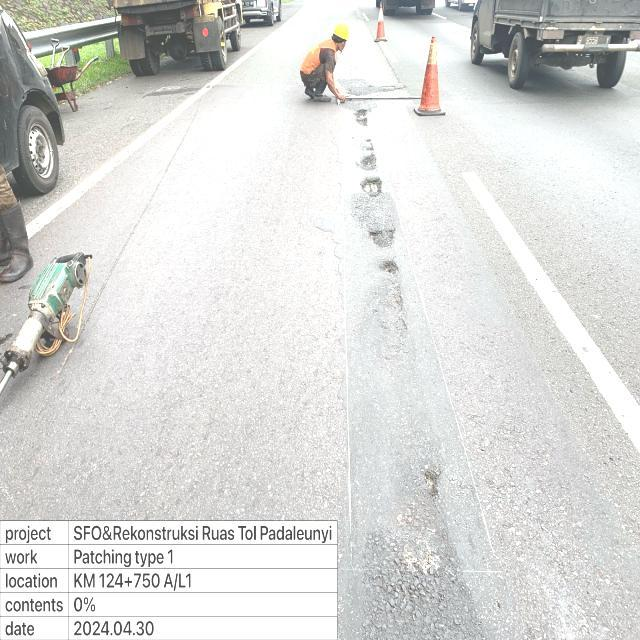Buraco: (139, 84, 203, 101), (368, 226, 397, 249), (360, 176, 383, 198), (356, 152, 378, 172), (379, 259, 401, 277), (353, 108, 369, 127)
